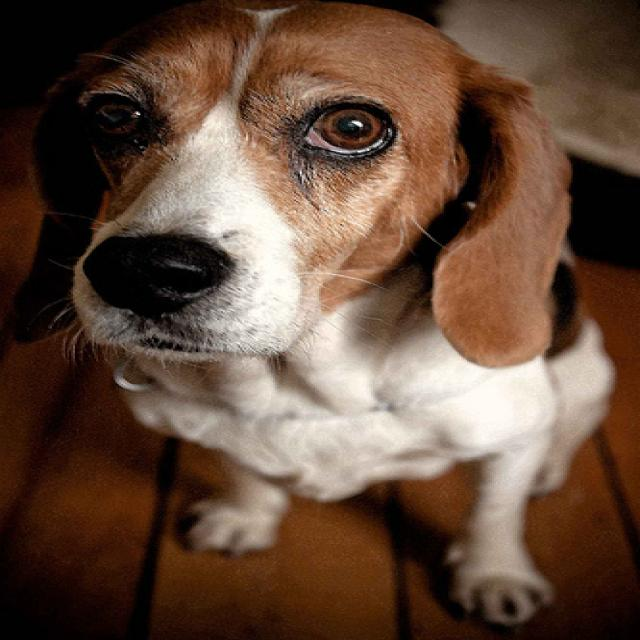dog-beagle: (2, 1, 636, 637)
